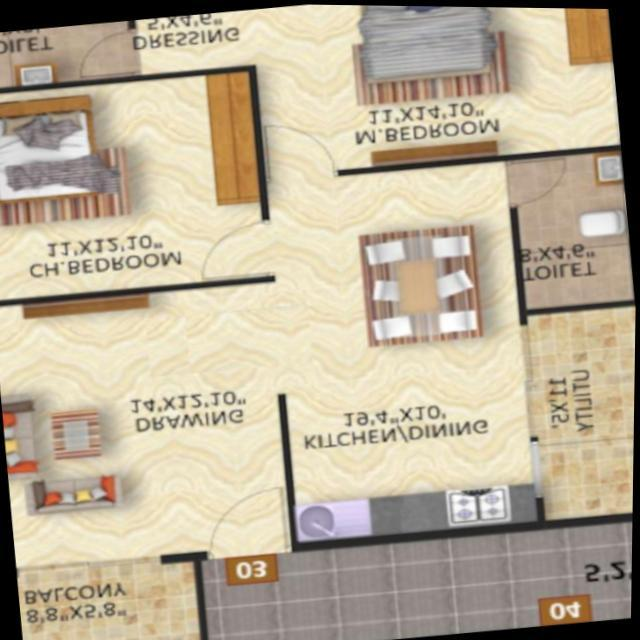Balcony-Sitout: (18, 560, 201, 640)
Bedroom: (0, 70, 269, 301)
Bedroom with Toilet: (0, 4, 621, 177)
Dining: (353, 220, 488, 351)
Dress: (137, 9, 247, 74)
Enterance-Foyer: (199, 485, 293, 575)
Kitchen: (284, 354, 538, 546)
Living: (0, 280, 296, 572)
Toilet: (511, 148, 634, 307), (0, 20, 133, 88)
Utility: (526, 303, 636, 520)
